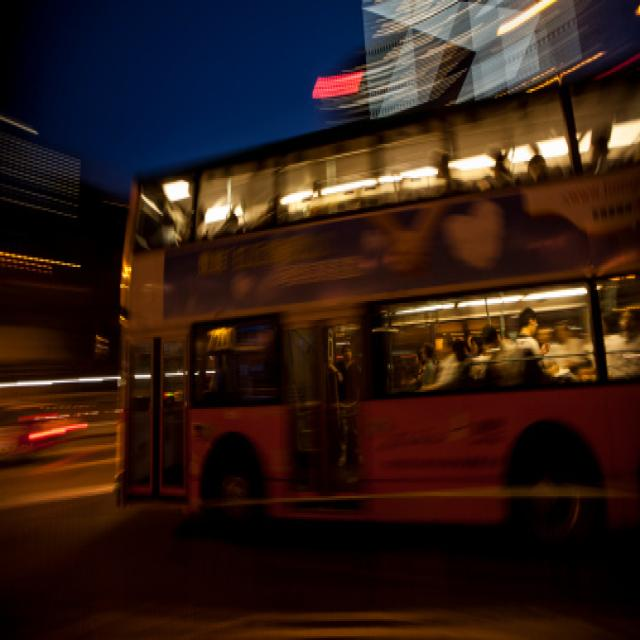Bus: (100, 81, 640, 593)
People: (509, 289, 552, 382), (424, 310, 463, 402)
